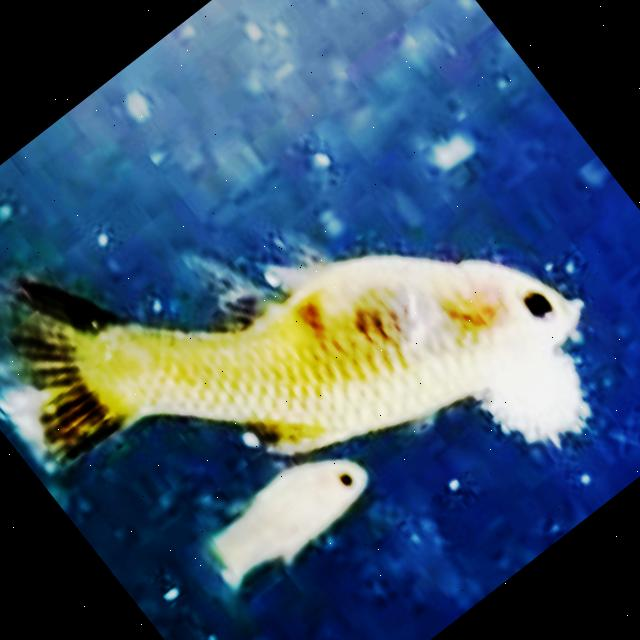Fungal Disease -Saprolegniasis-: (0, 262, 586, 468), (0, 262, 586, 466), (0, 262, 585, 465)
